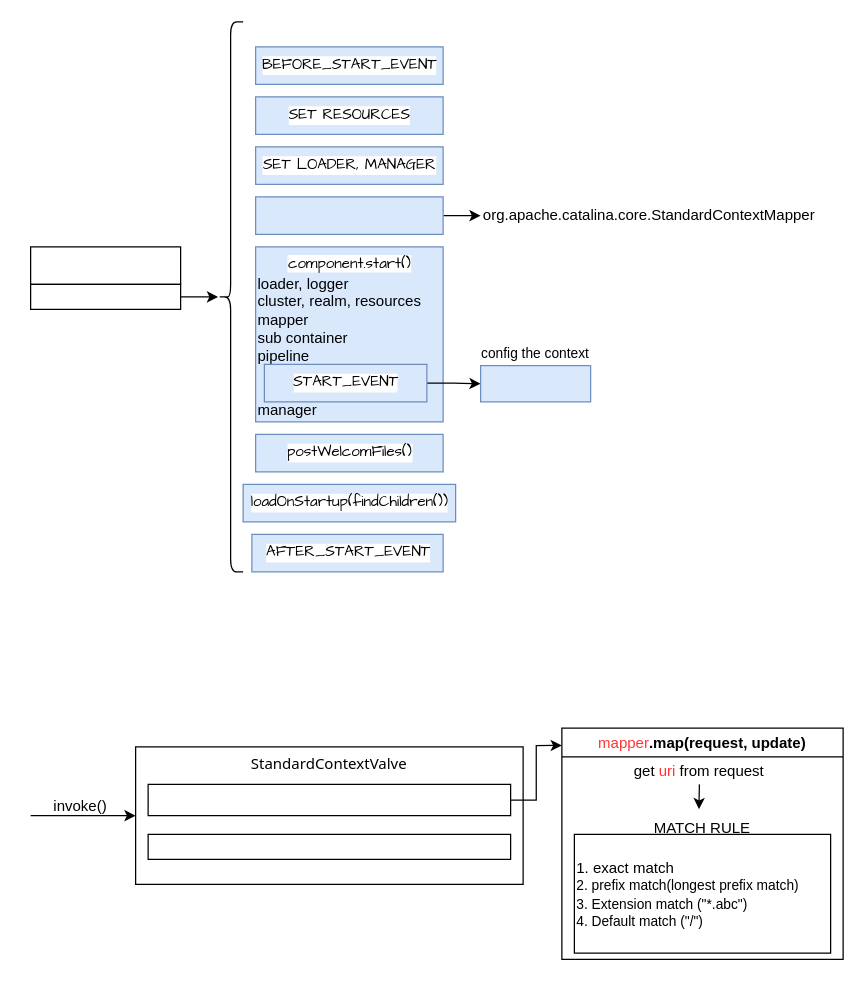
This 865x981 diagram has some shape labels left out. Each missing label, with the centre of its shape:
"addDefaultMapper()" goes at point (348, 215).
"ContextConfig" goes at point (535, 383).
"StandardContext" goes at point (105, 265).
"start()" goes at point (105, 296).
"wrapper = (Wrapper) context.map(request, true)" goes at point (329, 799).
"wrapper.invoke(request, response)" goes at point (329, 846).
